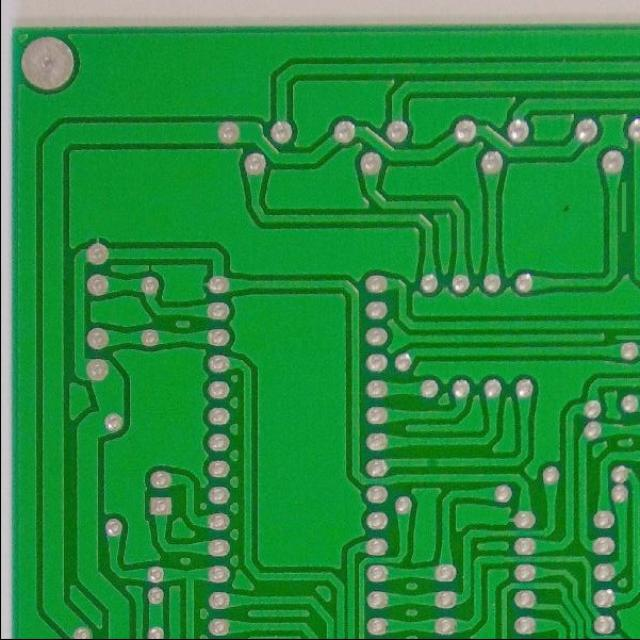Spurious_Cooper: (616, 177, 630, 236)
